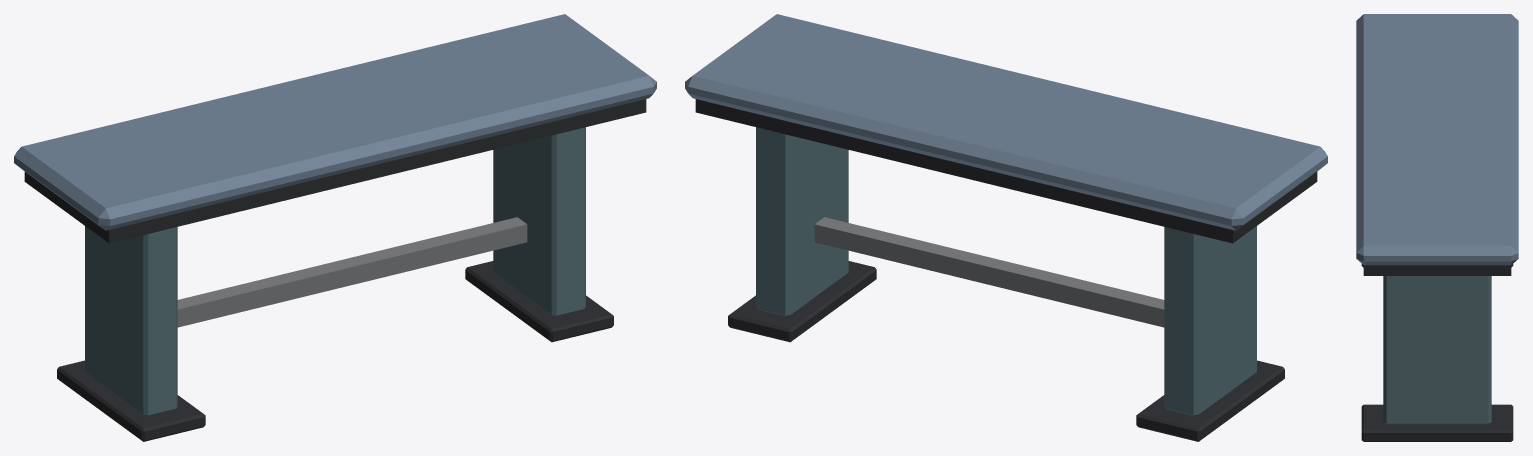
File: astro_bench.fbx
3 views of the same model, side by side, from view 1: azimuth 30°, elevation 25°; view 2: azimuth 150°, elevation 25°; view 3: azimuth 270°, elevation 25° (orthographic). The views are drawn at different scales.
Parts seen in each view (by area): view 1: Bench_Body; view 2: Bench_Body; view 3: Bench_Body.
Part boxes in pixels (<box>): Bench_Body: <box>14,14,656,441</box>; Bench_Body: <box>685,14,1327,441</box>; Bench_Body: <box>1356,14,1518,441</box>.
Bounding box in the file's own units: 260 × 108 × 75.
